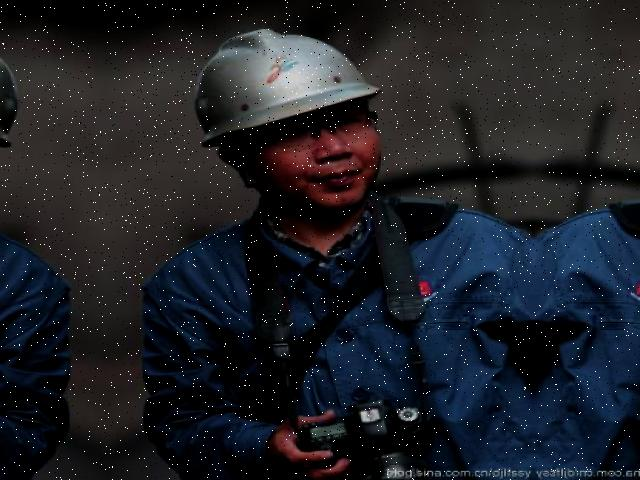Helmet: (184, 19, 387, 154)
